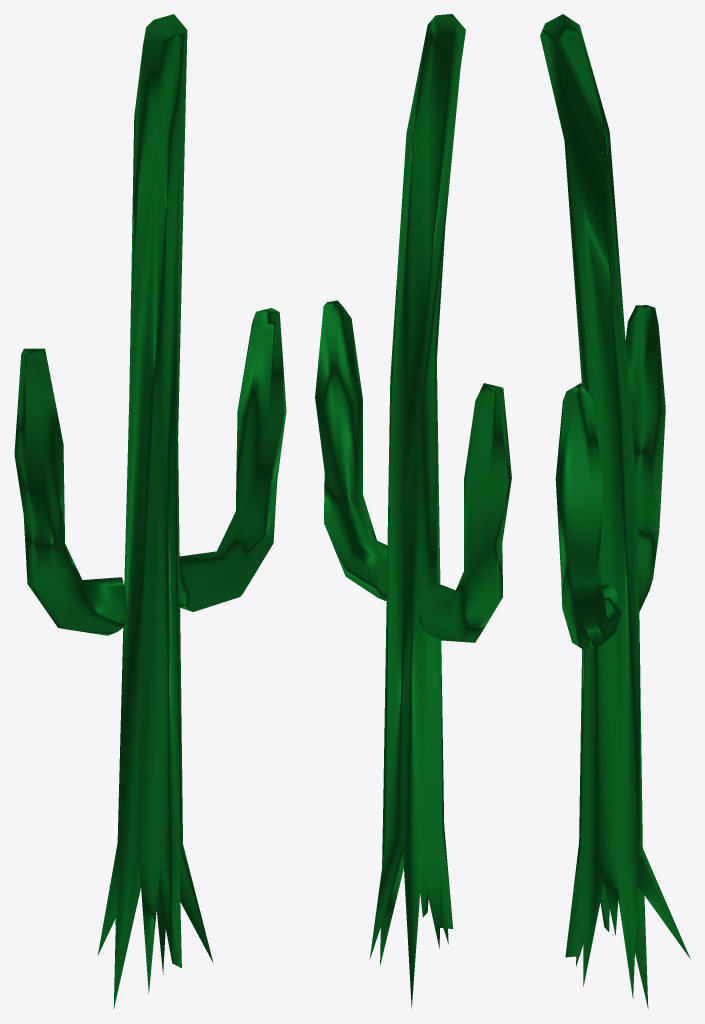
The model's file is SeguaroCactusLarge2_LOD1.obj.
The picture shows the model from 3 angles, left to right: view 1: azimuth 30°, elevation 25°; view 2: azimuth 150°, elevation 25°; view 3: azimuth 270°, elevation 25°; orthographic projection. The views are drawn at different scales.
Visible parts, largest first — view 1: SeguaroCactusLarge2_LOD1; view 2: SeguaroCactusLarge2_LOD1; view 3: SeguaroCactusLarge2_LOD1.
Boxes of the visible parts, bbox=[...] form: SeguaroCactusLarge2_LOD1: bbox=[14, 14, 286, 1009]; SeguaroCactusLarge2_LOD1: bbox=[315, 14, 511, 1008]; SeguaroCactusLarge2_LOD1: bbox=[540, 14, 690, 1008].
Bounding box in the file's own units: 138 × 578 × 79.45.
